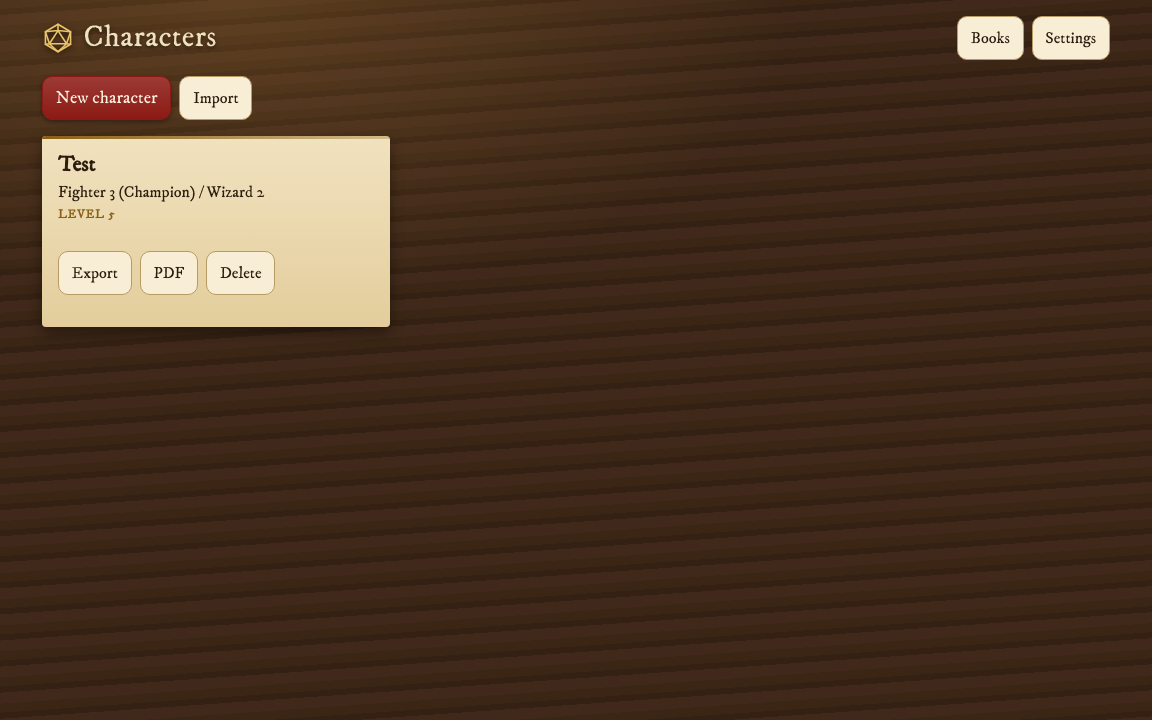
Scenario: character list › keeps the character and says so when it cannot be deleted
Click the button "Delete". click: (241, 274)
box: [206,252,275,296]
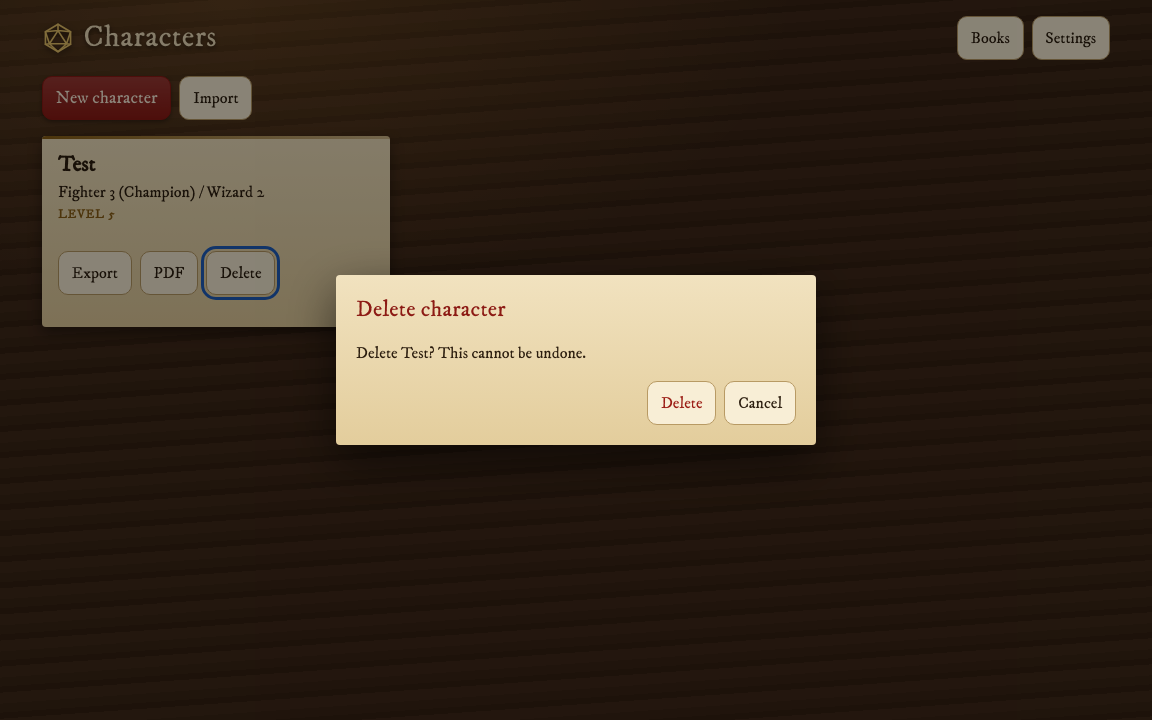
Click the button with class "danger". click: (682, 403)
box: [647,381,716,425]
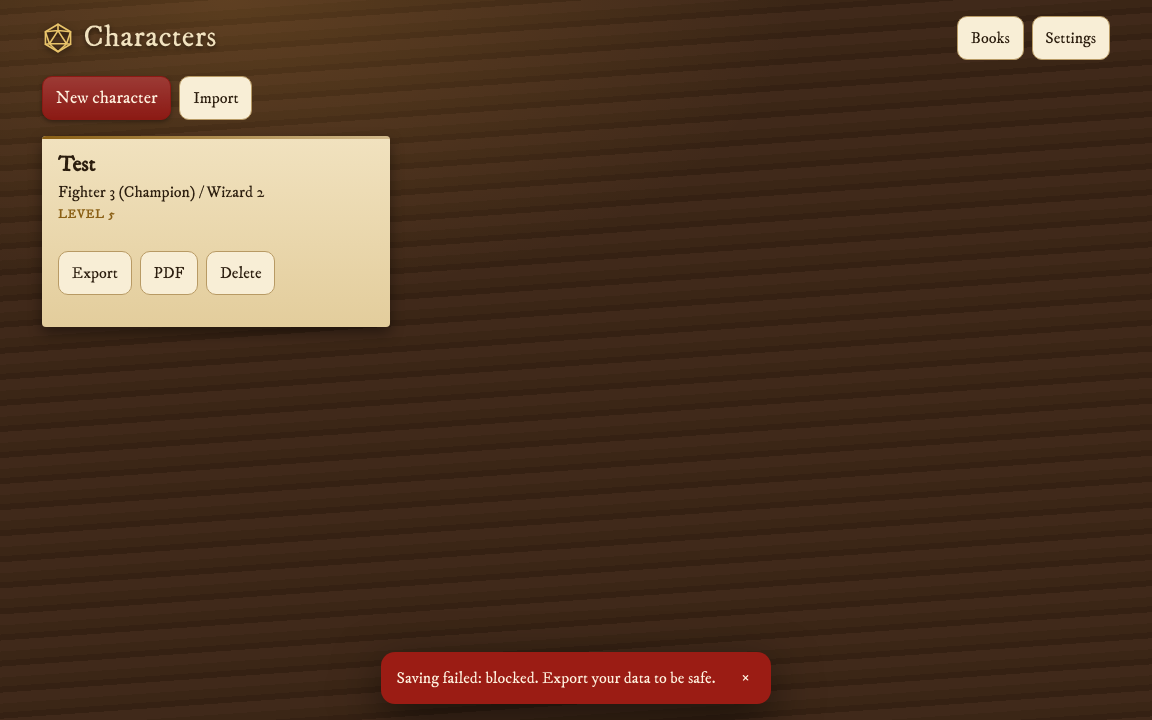
Expected: the link "Test Fighter 3 (Champion) / Wizard 2 Level 5" is shown, [58,151,264,222]
Expected: the text "Saving failed: blocked. Export your data to be safe." is shown, [396,667,716,689]
Expected: the dialog is gone
